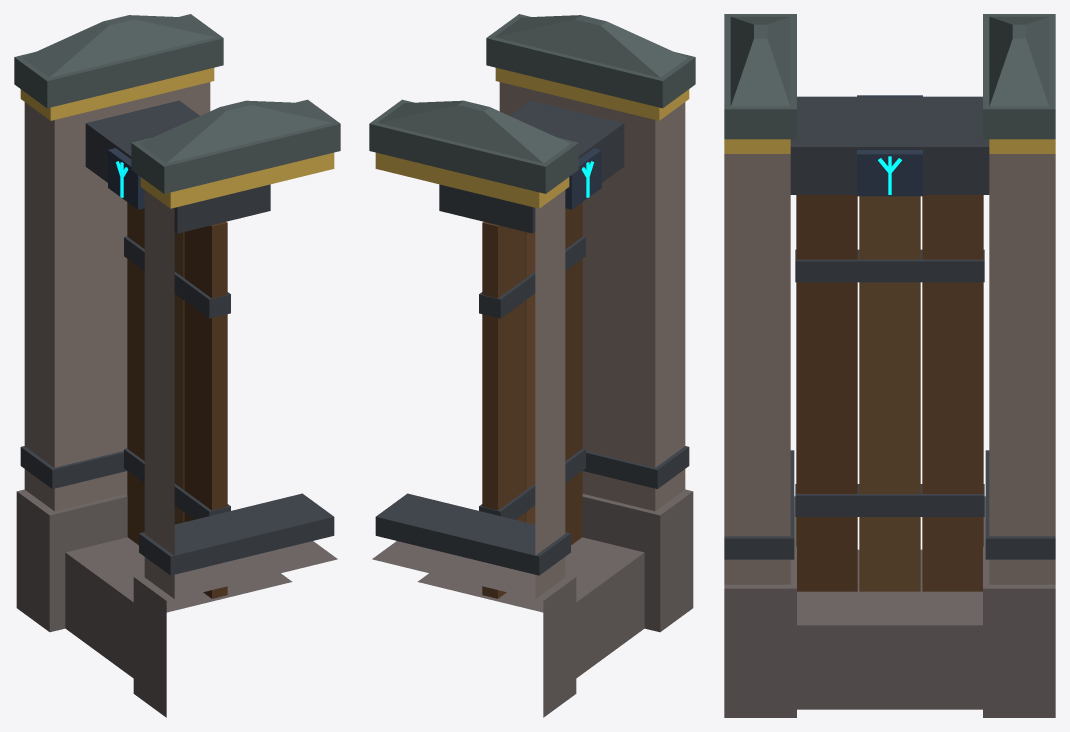
File: wall_gate_low.glb
3 renders of one model, left to right at view 1: azimuth 30°, elevation 25°; view 2: azimuth 150°, elevation 25°; view 3: azimuth 270°, elevation 25°, orthographic. The views are drawn at different scales.
Parts seen in each view (by area): view 1: body, door; view 2: body, door; view 3: body, door.
Boxes of the visible parts, x1=… form: body: x1=14, y1=14, x2=340, y2=717; door: x1=124, y1=202, x2=230, y2=598; body: x1=369, y1=14, x2=695, y2=717; door: x1=479, y1=202, x2=585, y2=598; body: x1=724, y1=14, x2=1055, y2=717; door: x1=795, y1=195, x2=984, y2=591.
Bounding box in the file's own units: 0.68 × 2.13 × 1.
